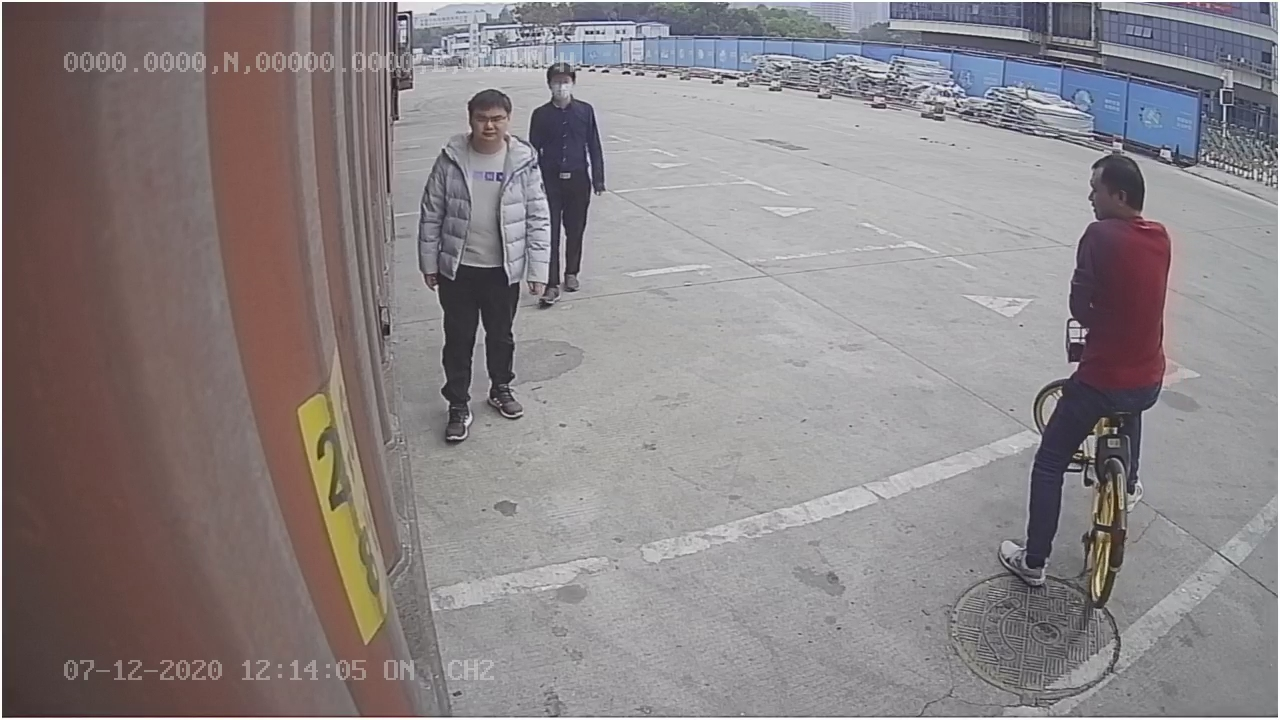person: (417, 84, 554, 440)
